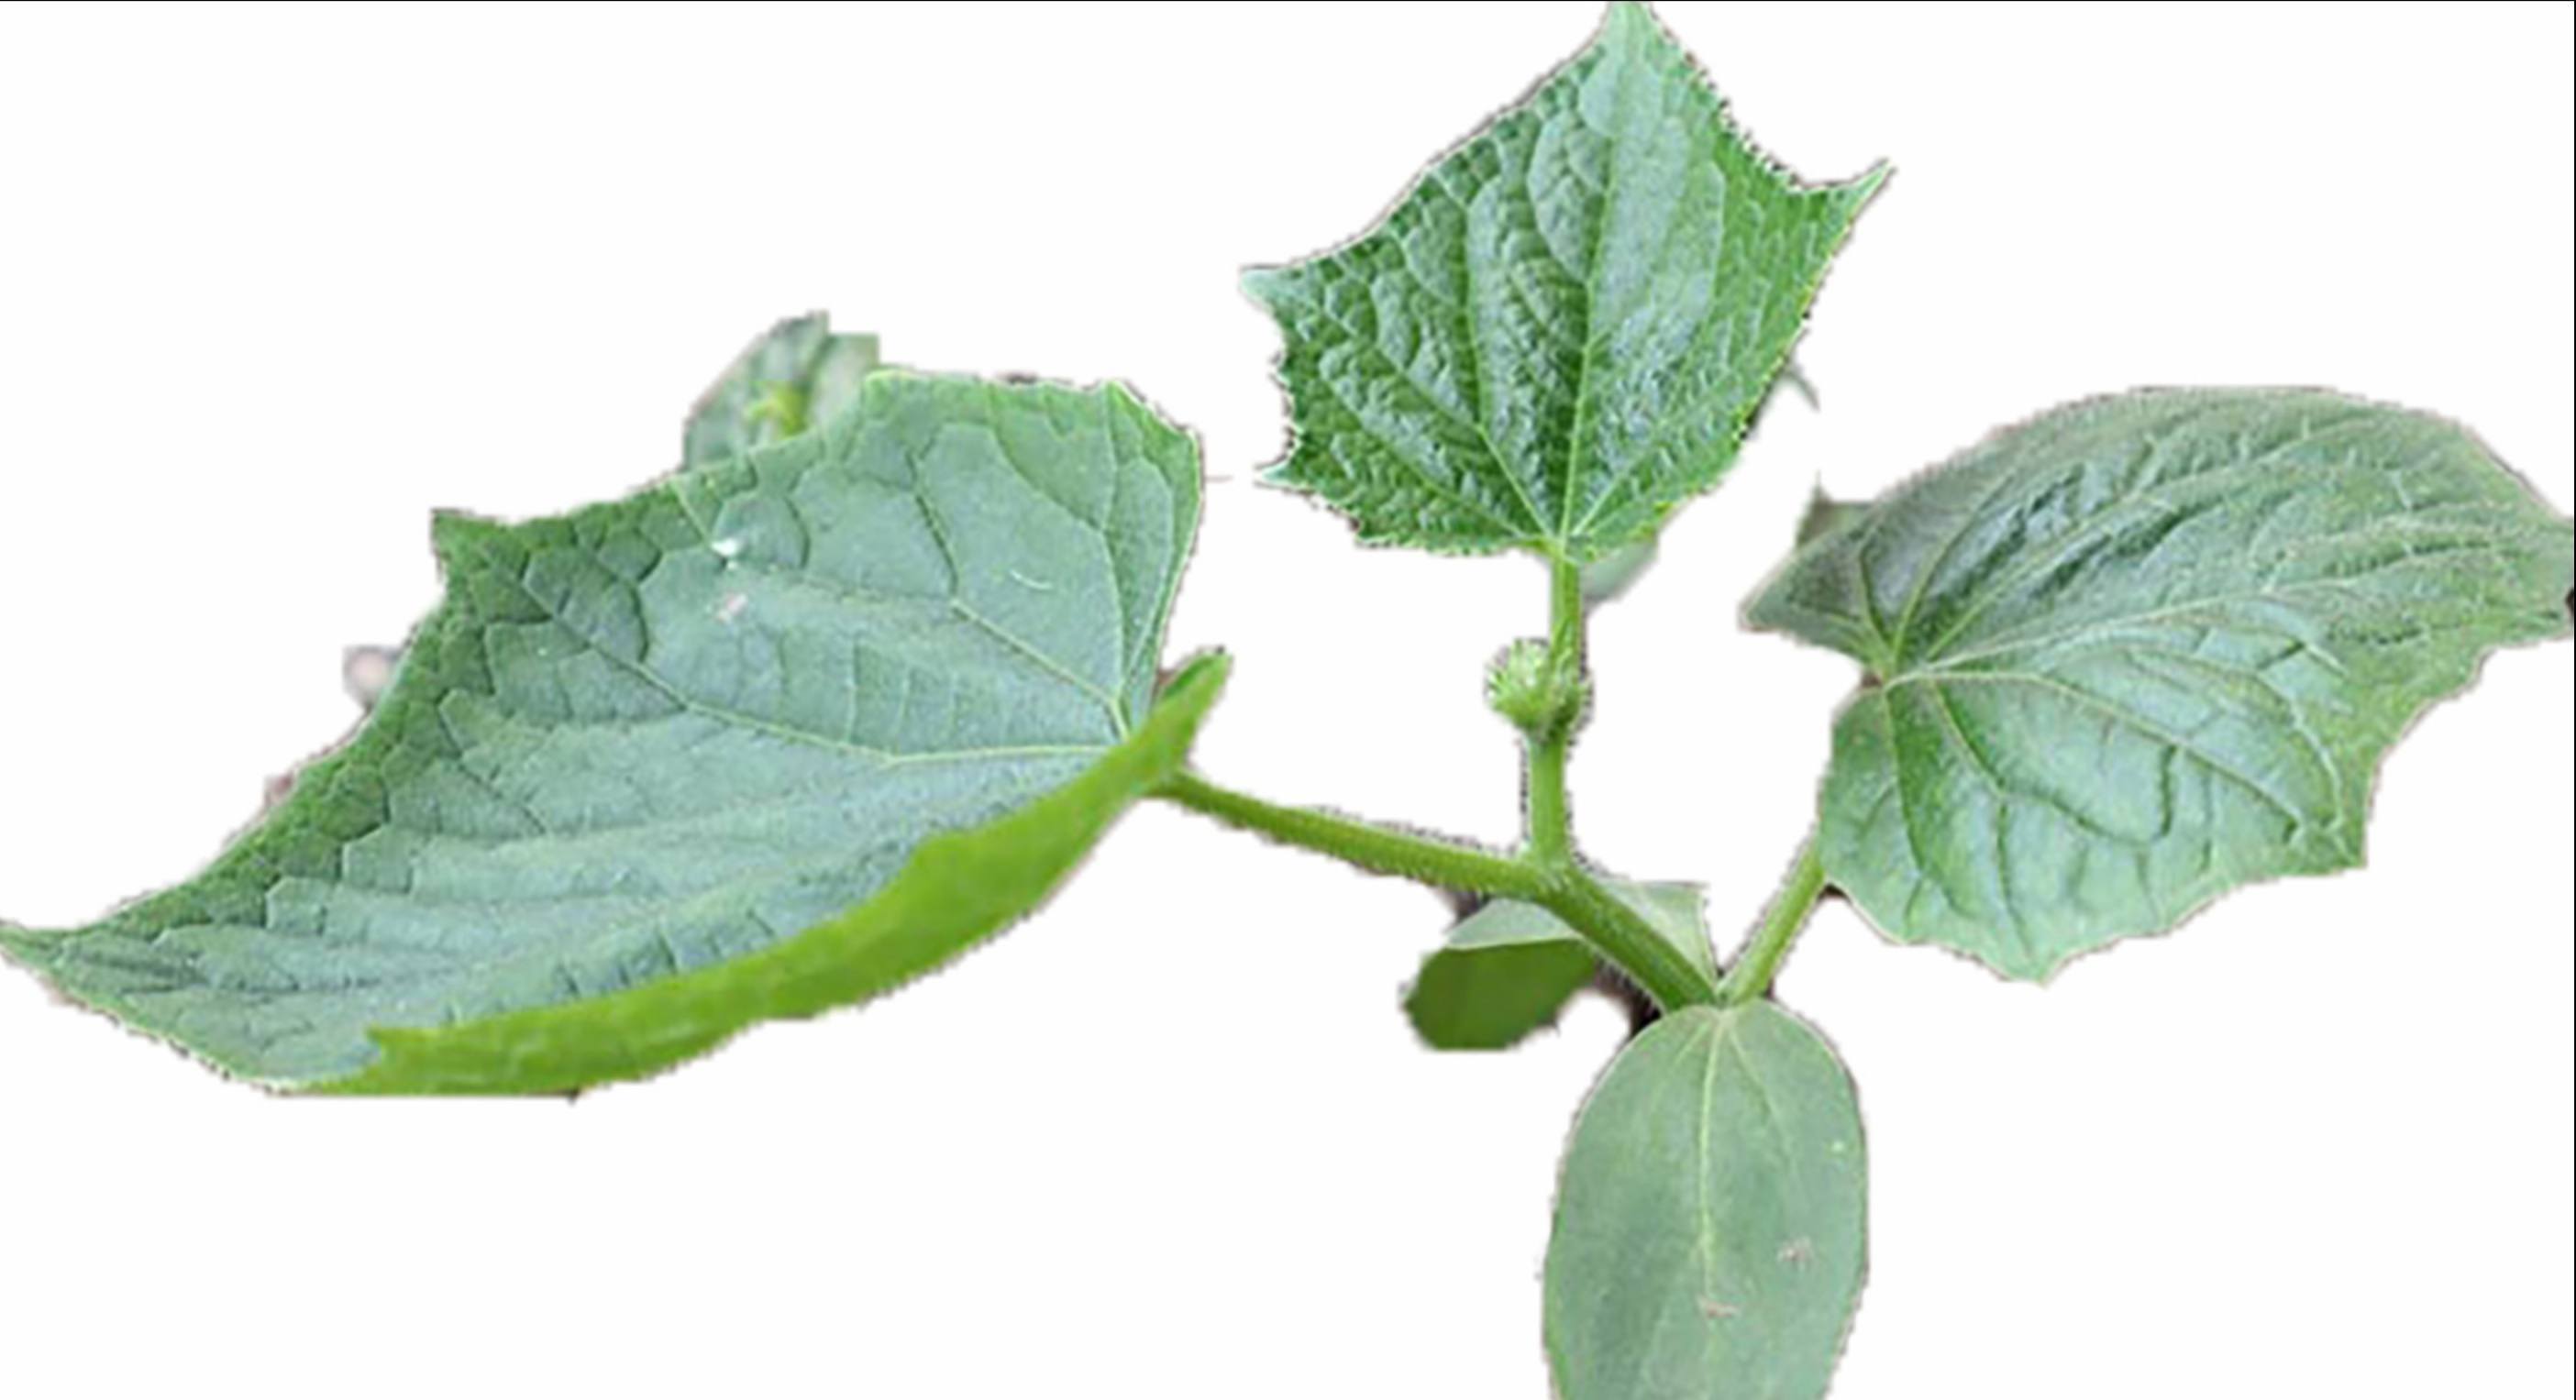cucumber_plant: (17, 50, 2571, 1088)
